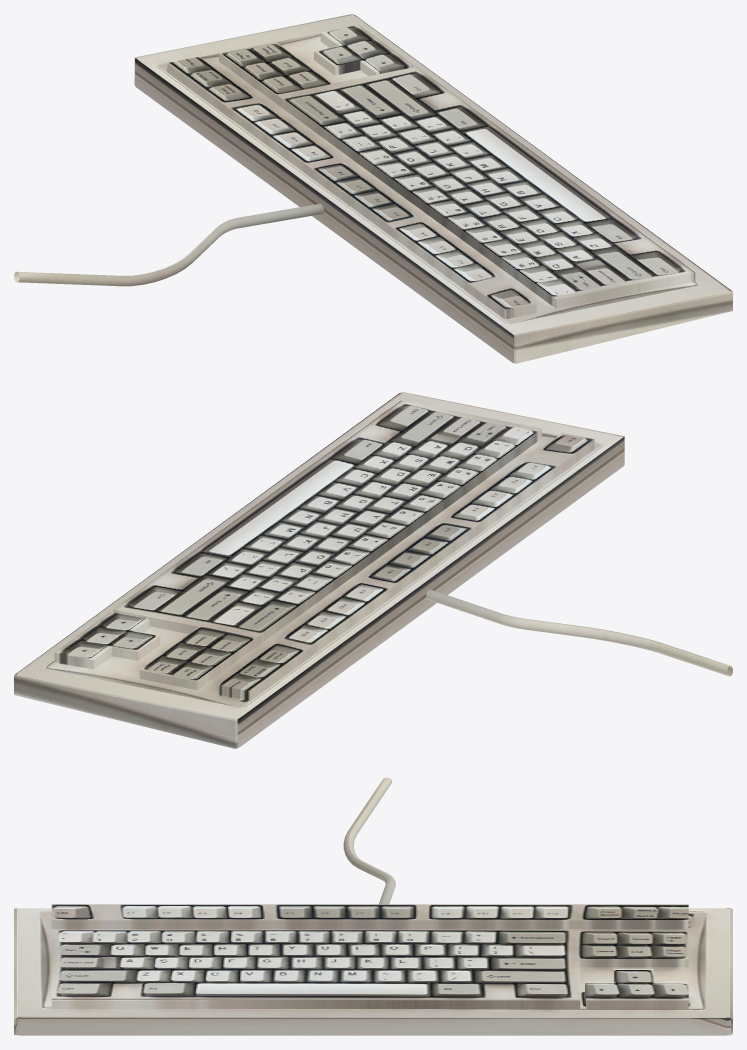
The model's file is ps1_style_old_keyboard.glb.
3 views of the same model, one above another, from view 1: azimuth 30°, elevation 25°; view 2: azimuth 150°, elevation 25°; view 3: azimuth 270°, elevation 25° (orthographic). The views are drawn at different scales.
Visible parts, largest first — view 1: Cube; view 2: Cube; view 3: Cube.
Boxes of the visible parts, x1,y1,x2,y2 form: Cube: [14, 14, 732, 363]; Cube: [14, 392, 732, 748]; Cube: [14, 777, 732, 1035].
Bounding box in the file's own units: 4.73 × 0.3434 × 6.
Materials: 1 (1 with a texture image).
